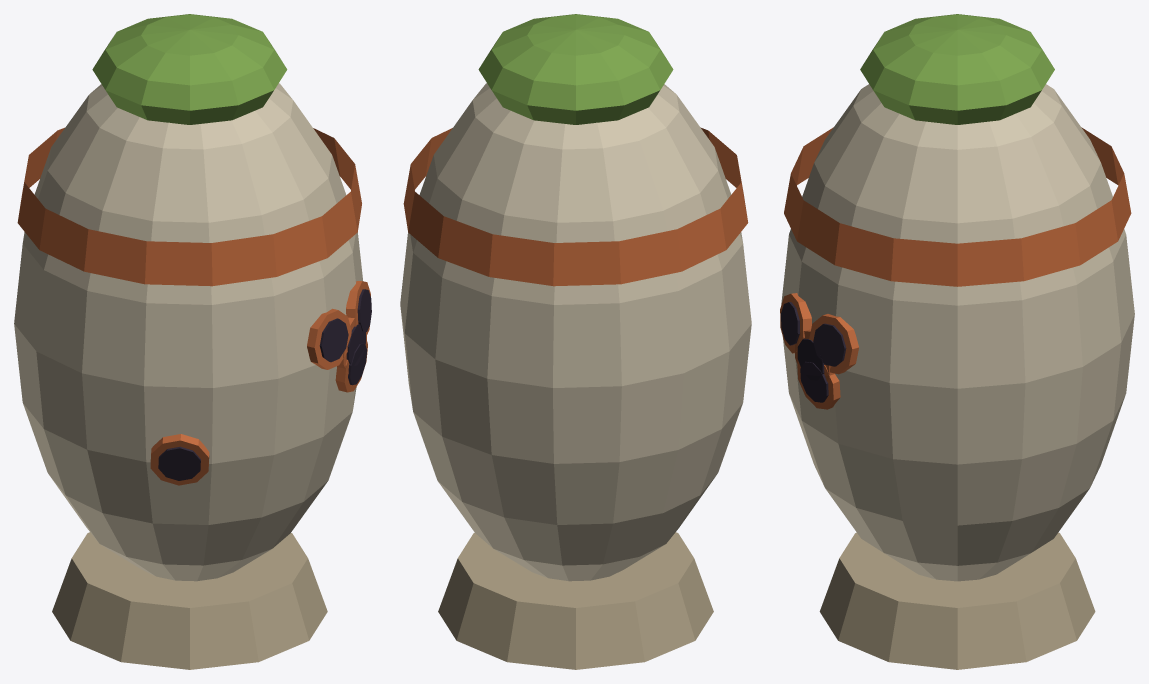
Rendered from tower_pod.glb.
The picture shows the model from 3 angles, left to right: view 1: azimuth 30°, elevation 25°; view 2: azimuth 150°, elevation 25°; view 3: azimuth 270°, elevation 25°; orthographic projection.
Parts seen in each view (by area): view 1: tower_pod; view 2: tower_pod; view 3: tower_pod.
Boxes of the visible parts, <box> form: tower_pod: <box>14,14,371,669</box>; tower_pod: <box>400,14,751,669</box>; tower_pod: <box>780,14,1134,669</box>.
Size of the model in its own units: 7.2 by 13.03 by 7.2.
